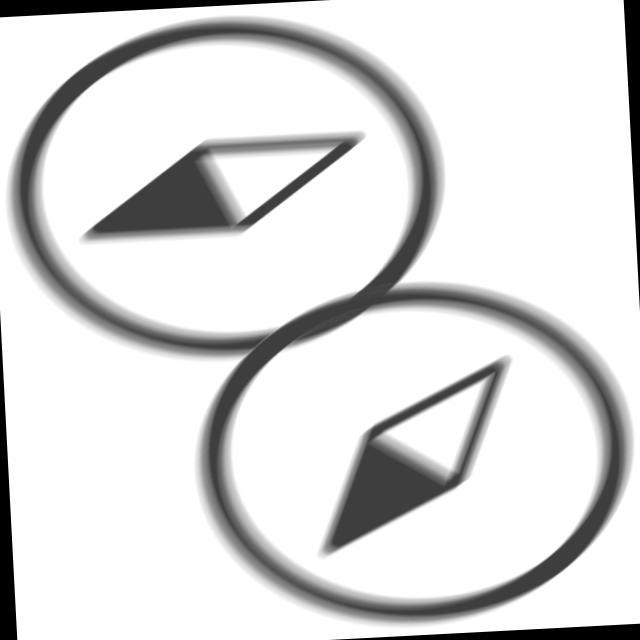compass: (1, 1, 465, 379), (176, 264, 640, 640)
